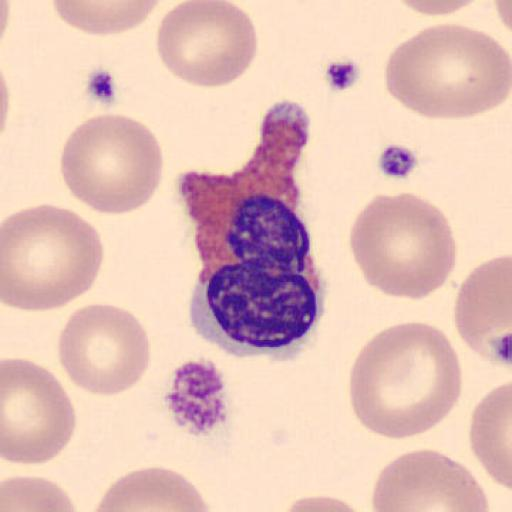Platelet: (186, 168, 328, 358), (163, 356, 234, 438)
RBC: (347, 319, 465, 441), (382, 21, 510, 121), (348, 191, 458, 301), (2, 202, 106, 313), (59, 112, 166, 218), (155, 0, 259, 90), (57, 300, 152, 398), (1, 356, 77, 466), (370, 447, 492, 512), (452, 252, 512, 366), (90, 465, 212, 512), (469, 379, 512, 493), (50, 0, 164, 37), (2, 474, 80, 512), (280, 492, 370, 512), (393, 0, 482, 18), (0, 61, 11, 144), (493, 0, 512, 35), (0, 0, 11, 59), (0, 0, 13, 45)
WBC: (184, 163, 325, 357)
